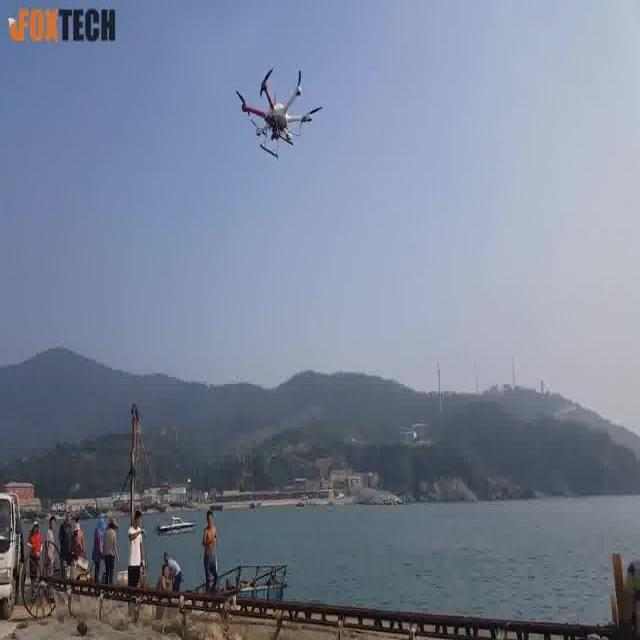drone: (231, 61, 325, 159)
